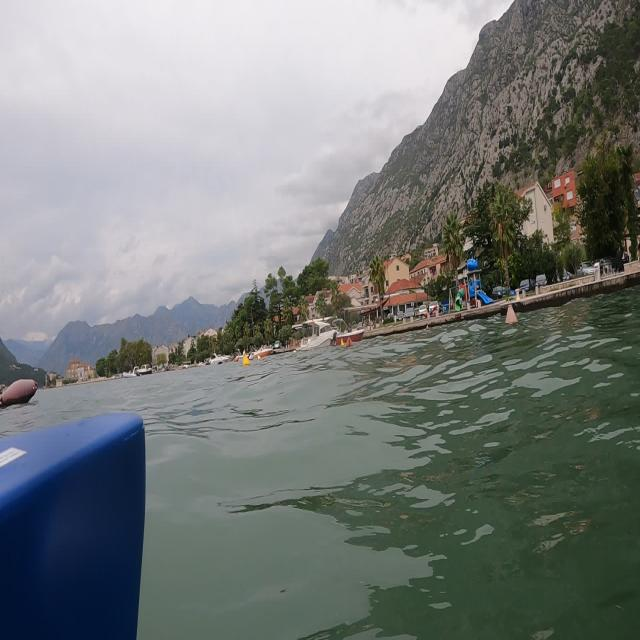boat: (287, 314, 367, 353)
buoy: (1, 367, 46, 421), (501, 297, 523, 333), (242, 349, 250, 370)
